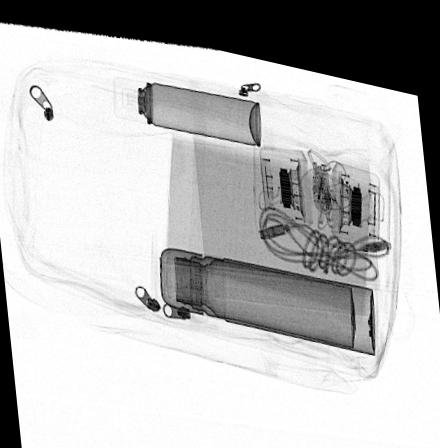Sprayer: (113, 72, 262, 135)
